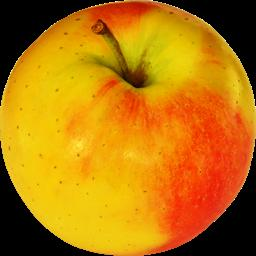Apple Fresh: (5, 2, 256, 256)
